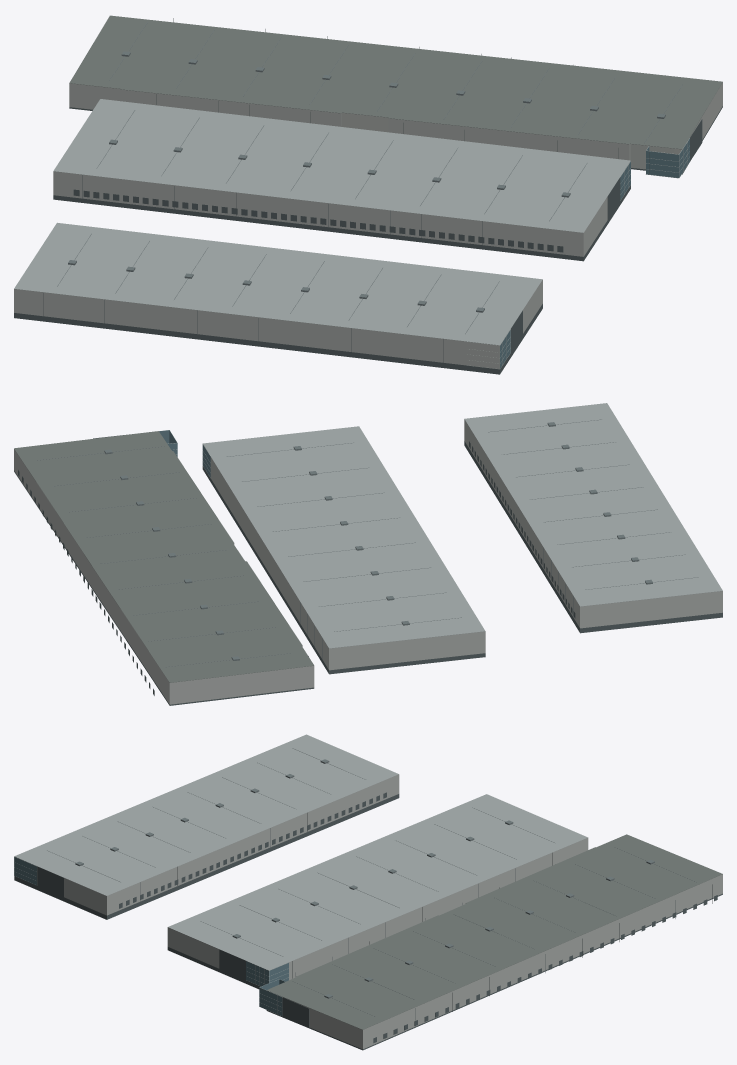
The model's file is hazelhurst-reference-shells-study.glb.
3 views of the same model, one above another, from view 1: azimuth 30°, elevation 25°; view 2: azimuth 150°, elevation 25°; view 3: azimuth 270°, elevation 25° (orthographic). The views are drawn at different scales.
Parts seen in each view (by area): view 1: hazelhurst-2026-roof, hazelhurst-2026-roof705, hazelhurst-2026-wall, hazelhurst-2026-dark, hazelhurst-2026-service, hazelhurst-2026-glass, hazelhurst-2026-mullion; view 2: hazelhurst-2026-roof, hazelhurst-2026-roof705, hazelhurst-2026-wall, hazelhurst-2026-dark, hazelhurst-2026-service; view 3: hazelhurst-2026-roof, hazelhurst-2026-roof705, hazelhurst-2026-wall, hazelhurst-2026-dark, hazelhurst-2026-service, hazelhurst-2026-glass.
Boxes of the visible parts, box(x1,y1,x2,y2) form: hazelhurst-2026-roof: box(14, 99, 630, 345); hazelhurst-2026-roof705: box(69, 15, 722, 149); hazelhurst-2026-wall: box(14, 82, 722, 368); hazelhurst-2026-dark: box(14, 18, 722, 374); hazelhurst-2026-service: box(57, 22, 682, 333); hazelhurst-2026-glass: box(500, 138, 689, 368); hazelhurst-2026-mullion: box(467, 138, 689, 369); hazelhurst-2026-roof: box(202, 403, 722, 648); hazelhurst-2026-roof705: box(14, 431, 314, 682); hazelhurst-2026-wall: box(14, 419, 722, 704); hazelhurst-2026-dark: box(14, 434, 722, 705); hazelhurst-2026-service: box(37, 419, 698, 667); hazelhurst-2026-roof: box(14, 734, 587, 970); hazelhurst-2026-roof705: box(267, 834, 722, 1029); hazelhurst-2026-wall: box(64, 774, 722, 1049); hazelhurst-2026-dark: box(14, 792, 722, 1050); hazelhurst-2026-service: box(47, 748, 696, 1016); hazelhurst-2026-glass: box(14, 857, 288, 1015).
Size of the model in its own units: 425 by 17.07 by 431.
